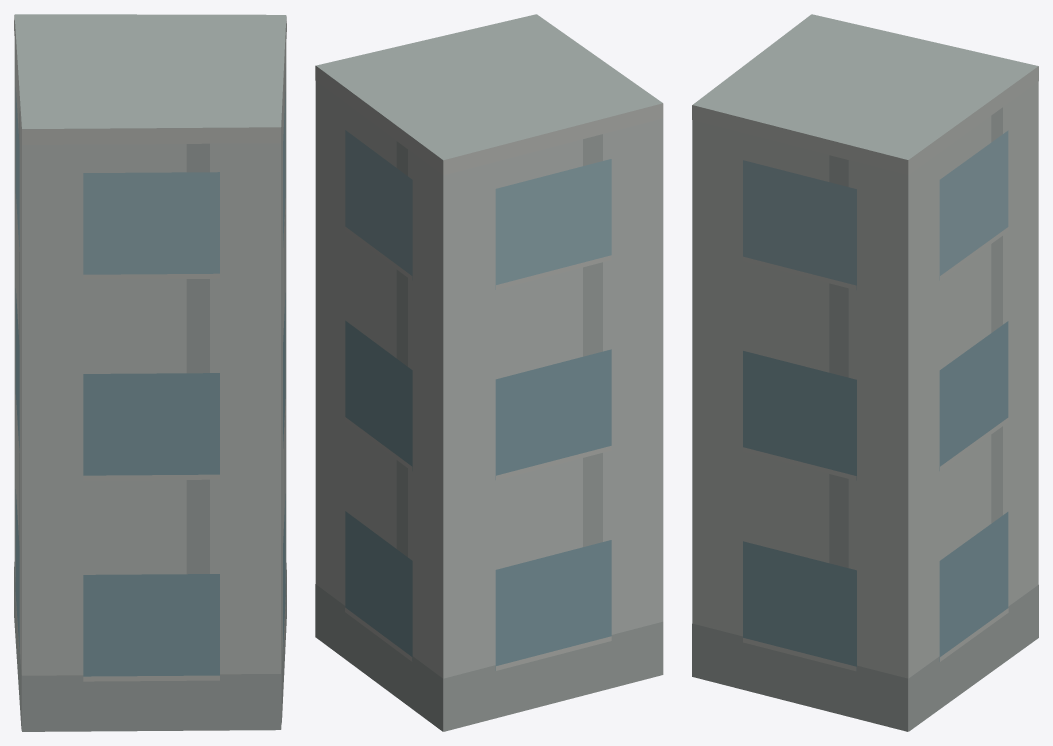
File: survey-upis-32748388.glb
3 views of the same model, side by side, from view 1: azimuth 30°, elevation 25°; view 2: azimuth 150°, elevation 25°; view 3: azimuth 270°, elevation 25° (orthographic). The views are drawn at different scales.
Visible parts, largest first — view 1: survey-upis-32748388.tmp; view 2: survey-upis-32748388.tmp; view 3: survey-upis-32748388.tmp.
Boxes of the visible parts, left/top/right/bottom form: survey-upis-32748388.tmp: left=14, top=14, right=286, bottom=731; survey-upis-32748388.tmp: left=315, top=14, right=663, bottom=731; survey-upis-32748388.tmp: left=692, top=14, right=1038, bottom=731.
Size of the model in its own units: 5.02 by 9.15 by 5.03.
